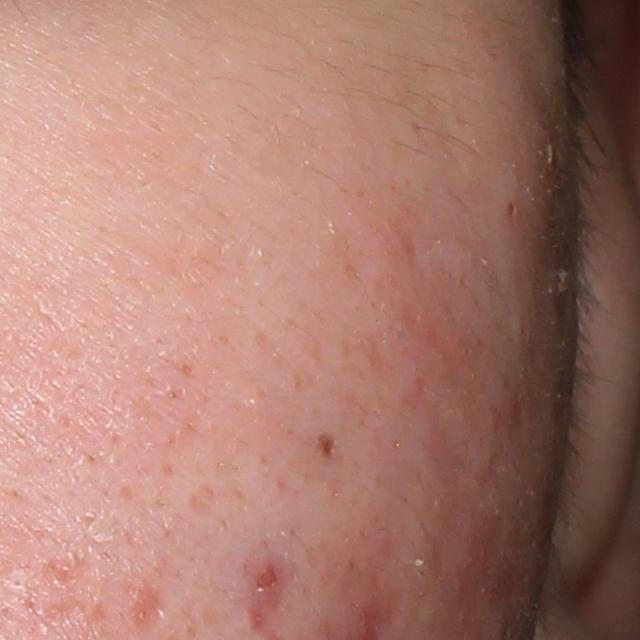atrophic_scar: (128, 592, 169, 634)
